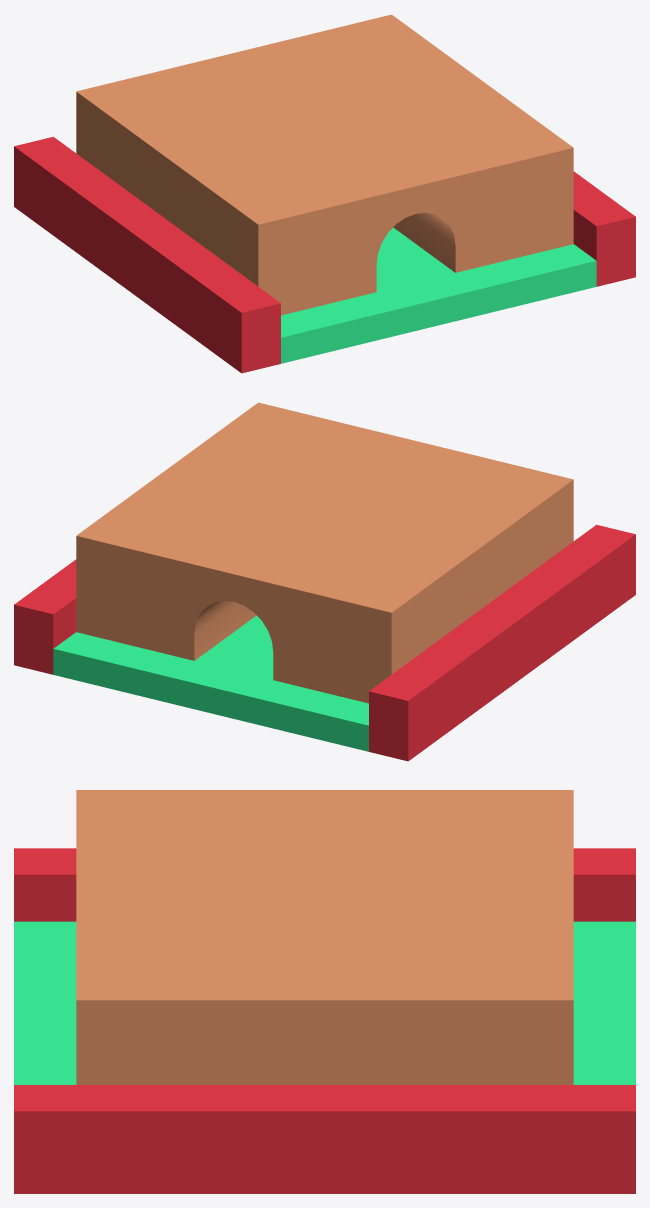
Rendered from tunnelNarrow.fbx.
3 renders of one model, top to bottom at view 1: azimuth 30°, elevation 25°; view 2: azimuth 150°, elevation 25°; view 3: azimuth 270°, elevation 25°, orthographic. The views are drawn at different scales.
Parts seen in each view (by area): view 1: tunnelNarrow; view 2: tunnelNarrow; view 3: tunnelNarrow.
Boxes of the visible parts, x1,y1,x2,y2 form: tunnelNarrow: [14, 14, 635, 373]; tunnelNarrow: [14, 402, 635, 761]; tunnelNarrow: [14, 790, 635, 1193].
Bounding box in the file's own units: 10 × 2.97 × 10.
